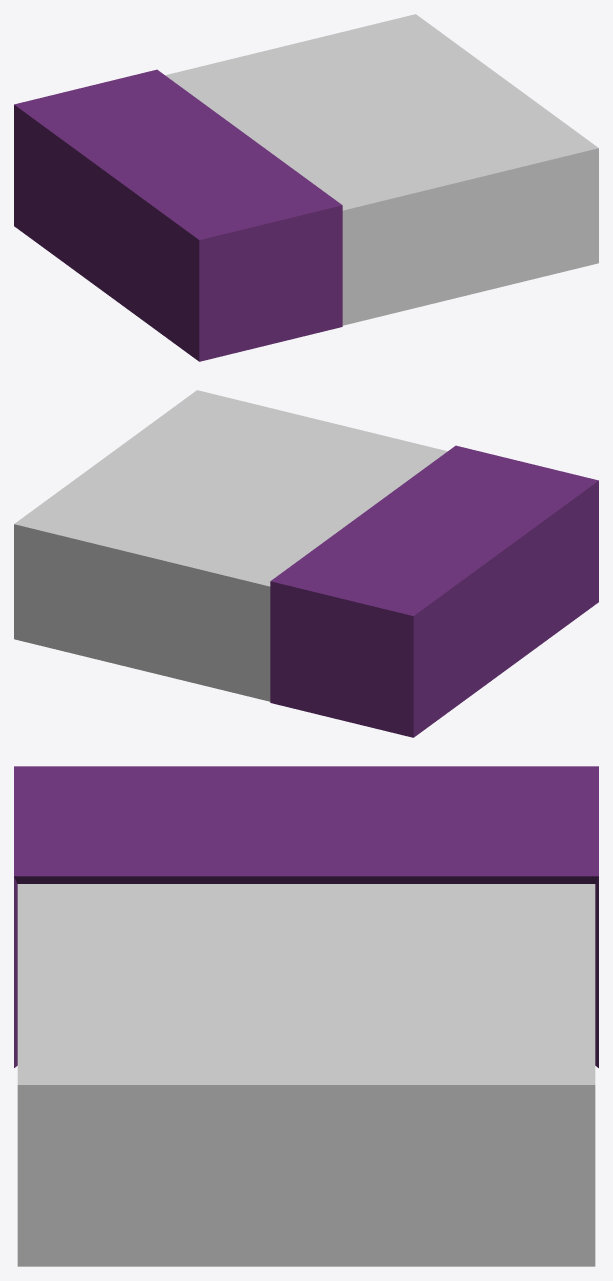
File: cigarettePack.fbx
3 renders of one model, top to bottom at view 1: azimuth 30°, elevation 25°; view 2: azimuth 150°, elevation 25°; view 3: azimuth 270°, elevation 25°, orthographic. The views are drawn at different scales.
Parts seen in each view (by area): view 1: Cube.001; view 2: Cube.001; view 3: Cube.001.
Boxes of the visible parts, x1=… form: Cube.001: x1=14, y1=14, x2=598, y2=361; Cube.001: x1=14, y1=390, x2=598, y2=737; Cube.001: x1=14, y1=766, x2=598, y2=1266.
Size of the model in its own units: 10.76 by 3.12 by 8.62.
